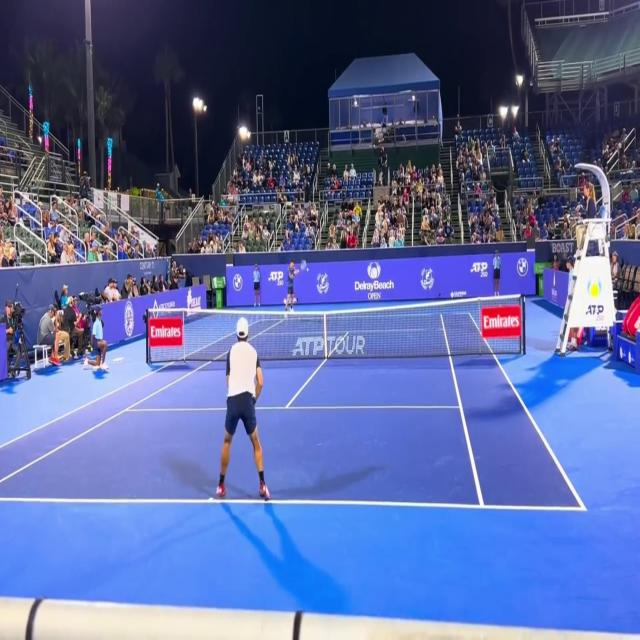tennisBall: (306, 264, 310, 274)
